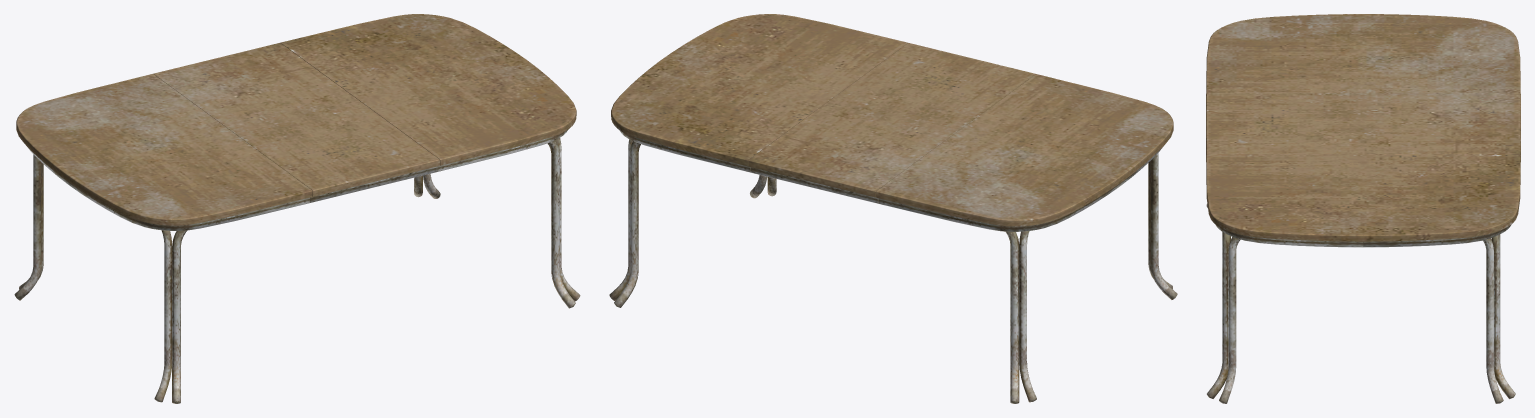
The model's file is 158_DiningTable.fbx.
3 renders of one model, left to right at view 1: azimuth 30°, elevation 25°; view 2: azimuth 150°, elevation 25°; view 3: azimuth 270°, elevation 25°, orthographic. The views are drawn at different scales.
Parts seen in each view (by area): view 1: LOD_1_Group_0_Sub_1__sm30_158_DiningTable01A_A_Mat; view 2: LOD_1_Group_0_Sub_1__sm30_158_DiningTable01A_A_Mat; view 3: LOD_1_Group_0_Sub_1__sm30_158_DiningTable01A_A_Mat.
Part boxes in pixels (<box>): LOD_1_Group_0_Sub_1__sm30_158_DiningTable01A_A_Mat: <box>14,14,580,403</box>; LOD_1_Group_0_Sub_1__sm30_158_DiningTable01A_A_Mat: <box>609,14,1177,403</box>; LOD_1_Group_0_Sub_1__sm30_158_DiningTable01A_A_Mat: <box>1206,14,1520,403</box>.
Bounding box in the file's own units: 2.09 × 0.7904 × 1.25.
